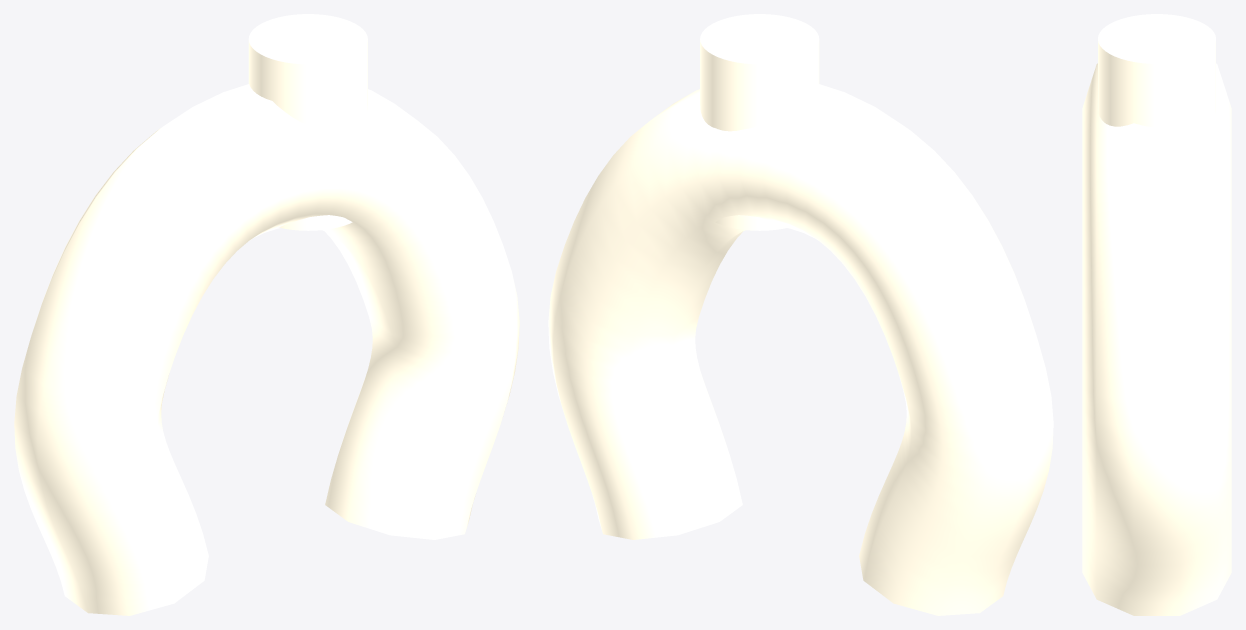
File: ref02_08.glb
The picture shows the model from 3 angles, left to right: view 1: azimuth 30°, elevation 25°; view 2: azimuth 150°, elevation 25°; view 3: azimuth 270°, elevation 25°; orthographic projection.
Visible parts, largest first — view 1: ref02_08; view 2: ref02_08; view 3: ref02_08.
Part boxes in pixels (x1,y1,x2,y2): ref02_08: [14, 14, 519, 615]; ref02_08: [548, 14, 1053, 615]; ref02_08: [1082, 14, 1231, 615].
Bounding box in the file's own units: 0.2334 × 0.2354 × 0.063.
